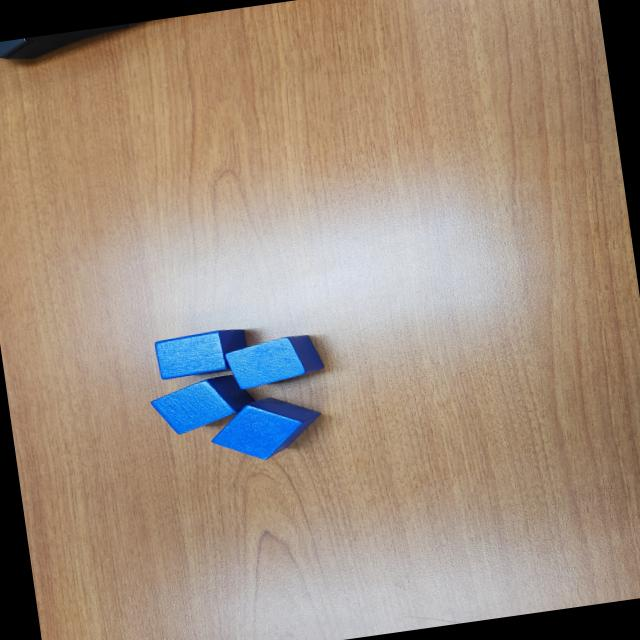blue: (207, 390, 327, 468), (146, 372, 260, 438), (222, 333, 326, 392), (152, 326, 255, 382)
